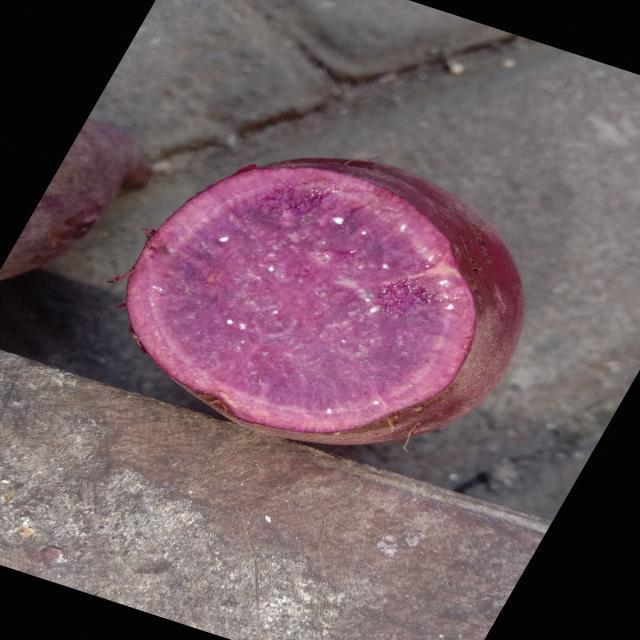Healthy Sweet Potato: (127, 168, 475, 434)
